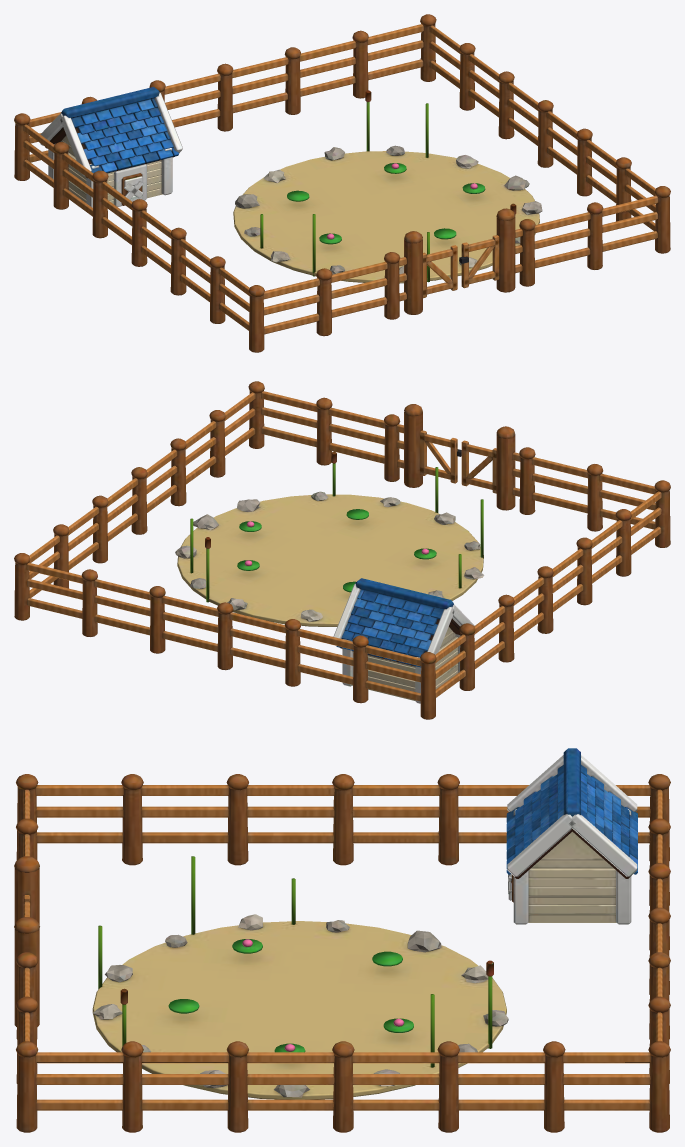
The model's file is campbell_pond.glb.
3 renders of one model, top to bottom at view 1: azimuth 30°, elevation 25°; view 2: azimuth 150°, elevation 25°; view 3: azimuth 270°, elevation 25°, orthographic. The views are drawn at different scales.
Visible parts, largest first — view 1: campbell_pond, gate1, gate0; view 2: campbell_pond, gate1, gate0; view 3: campbell_pond.
Boxes of the visible parts, x1,y1,x2,y2 form: campbell_pond: (14, 14, 670, 352); gate1: (459, 235, 499, 288); gate0: (423, 245, 457, 298); campbell_pond: (14, 381, 670, 719); gate1: (420, 430, 461, 483); gate0: (461, 440, 496, 493); campbell_pond: (14, 748, 670, 1132).
Bounding box in the file's own units: 3 × 0.615 × 3.01.
Materials: 1 (1 with a texture image).
